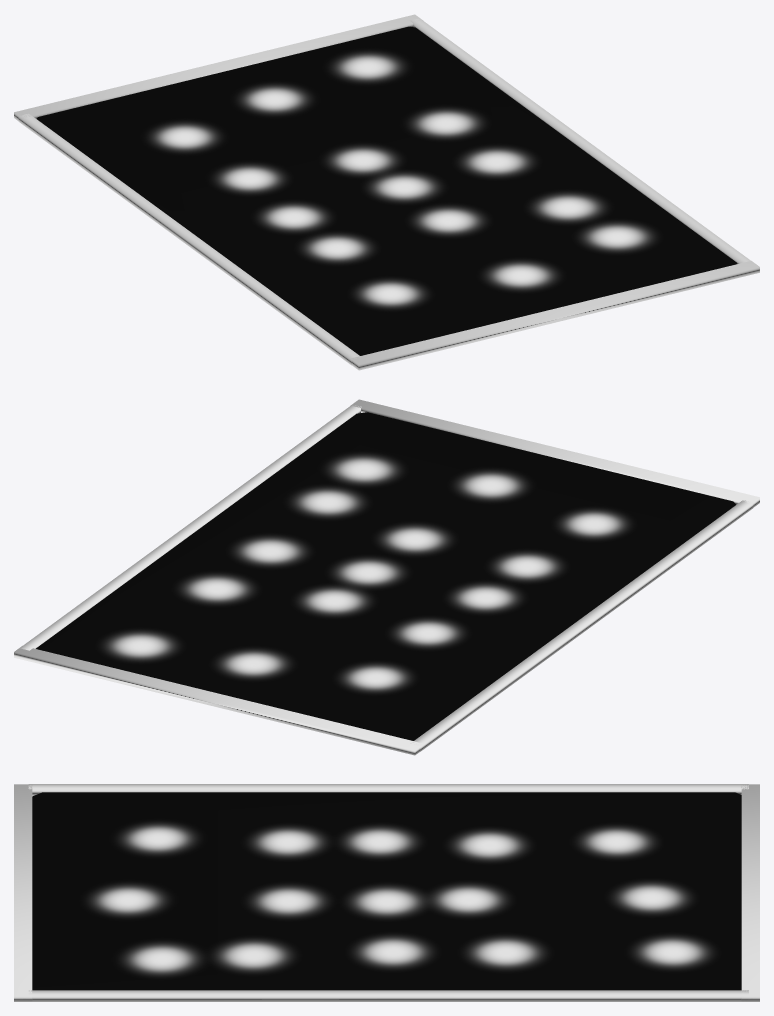
The model's file is tabletBlender.dae.
3 views of the same model, one above another, from view 1: azimuth 30°, elevation 25°; view 2: azimuth 150°, elevation 25°; view 3: azimuth 270°, elevation 25° (orthographic). The views are drawn at different scales.
Parts seen in each view (by area): view 1: Cube, Cube.002; view 2: Cube, Cube.002; view 3: Cube, Cube.002.
Boxes of the visible parts, box(x1,y1,x2,y2) form: Cube: box(36, 26, 737, 355); Cube.002: box(14, 14, 759, 370); Cube: box(36, 412, 736, 740); Cube.002: box(14, 399, 759, 755); Cube: box(32, 792, 741, 990); Cube.002: box(14, 784, 759, 1001).
Bounding box in the file's own units: 4.83 × 7.19 × 0.1109.
2 materials, 1 textured.
